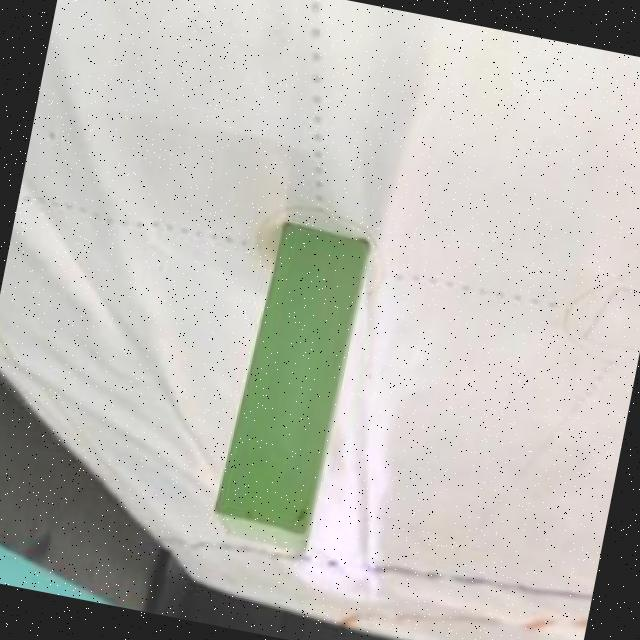greenbox: (205, 218, 372, 560)
